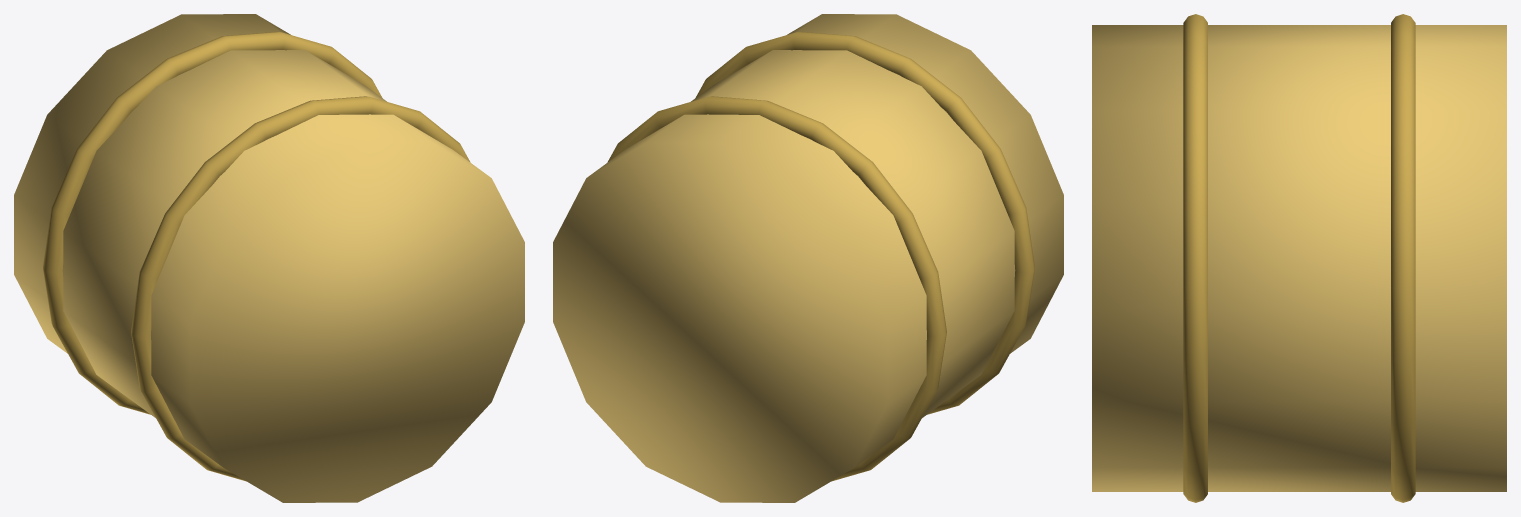
The model's file is hay_bale.glb.
The picture shows the model from 3 angles, left to right: view 1: azimuth 30°, elevation 25°; view 2: azimuth 150°, elevation 25°; view 3: azimuth 270°, elevation 25°; orthographic projection. The views are drawn at different scales.
Parts seen in each view (by area): view 1: HayMesh; view 2: HayMesh; view 3: HayMesh.
Boxes of the visible parts, x1,y1,x2,y2 form: HayMesh: (14,14,524,502); HayMesh: (553,14,1063,502); HayMesh: (1092,14,1506,502).
Bounding box in the file's own units: 0.95 × 0.95 × 0.8.
